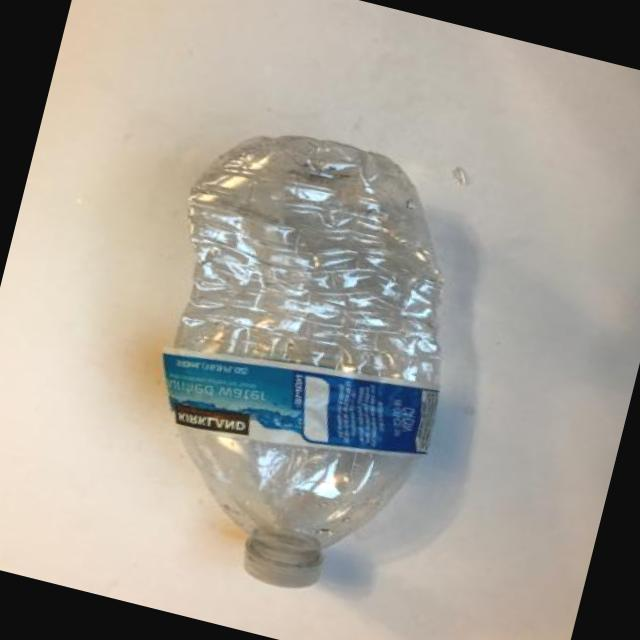plastic: (85, 99, 486, 598)
